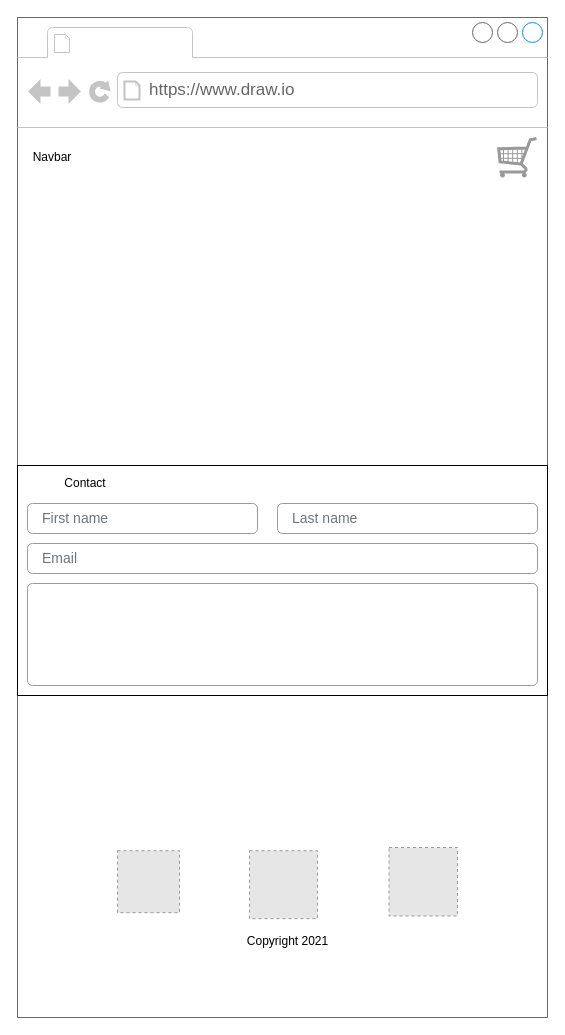
Some shapes in this 565 by 1035 pixel diagram are drawn without their labels. Grey dashed boxes stand in for pictures. The centre of each missing label's shape, as x and y in pixels:
Message: pixel 282 634
Page 1: pixel 132 42
